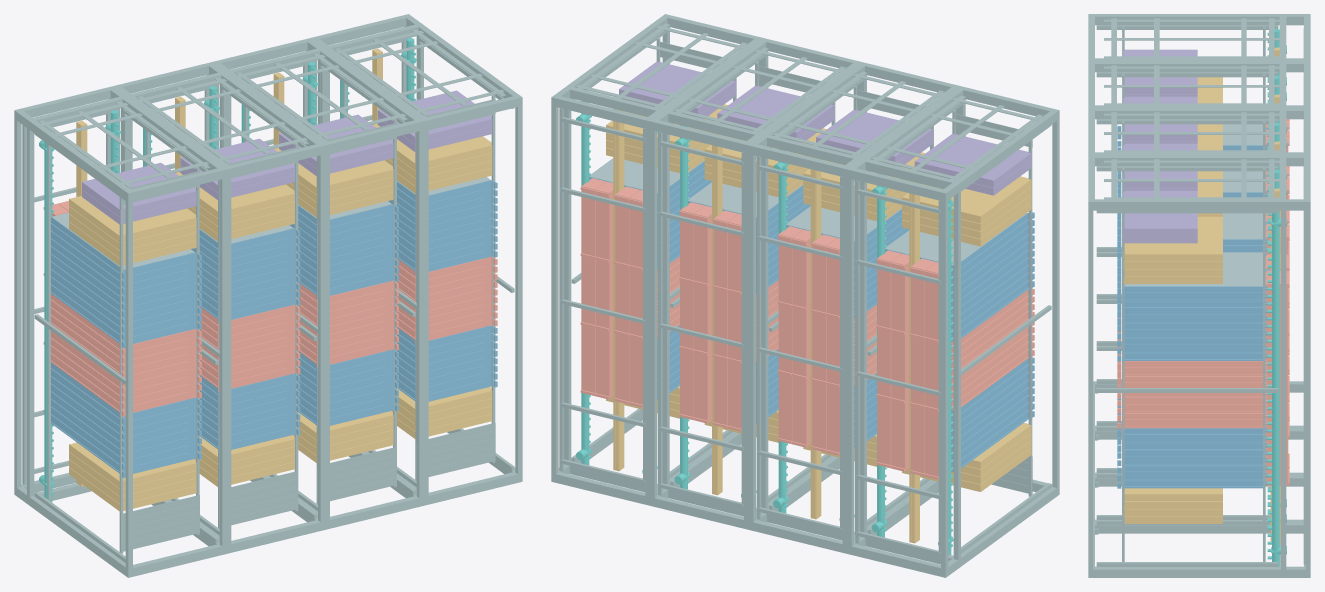
File: gb200-pod-solid.glb
3 views of the same model, side by side, from view 1: azimuth 30°, elevation 25°; view 2: azimuth 150°, elevation 25°; view 3: azimuth 270°, elevation 25° (orthographic). The views are drawn at different scales.
Parts seen in each view (by area): view 1: frame (×4), management_02 (×4), power_upper_04 (×4), power_lower_04 (×4), compute_18_compute_shell (×4), compute_16_compute_shell (×4), compute_15_compute_shell (×4), compute_17_compute_shell (×4), nvlink_switch_02_switch_shell (×4), nvlink_switch_08_switch_shell (×4), compute_04_compute_shell (×4), compute_05_compute_shell (×4) (+28 smaller); view 2: frame (×4), rear_braces (×4), nvlink_cartridge_03 (×4), nvlink_cartridge_04 (×4), nvlink_cartridge_02 (×4), nvlink_cartridge_01 (×4), management_02 (×4), dc_busbar (×4), coolant_return (×4), compute_18_compute_lid (×4), power_upper_04, coolant_supply (+6 smaller); view 3: frame (×4), management_02 (×4), power_upper_04 (×4), compute_18_compute_lid (×4), coolant_return, nvlink_cartridge_04, compute_18_compute_shell (×2), compute_17_compute_shell (×2), power_lower_04, compute_01_compute_shell, compute_03_compute_shell, compute_11_compute_shell (+31 smaller).
Part boxes in pixels (x1,y1,x2,y2): frame (×4): (14, 14, 522, 577); management_02 (×4): (82, 90, 492, 216); power_upper_04 (×4): (69, 123, 492, 242); power_lower_04 (×4): (69, 387, 492, 488); compute_18_compute_shell (×4): (51, 177, 497, 279); compute_16_compute_shell (×4): (51, 195, 497, 294); compute_15_compute_shell (×4): (51, 200, 497, 302); compute_17_compute_shell (×4): (51, 188, 497, 286); nvlink_switch_02_switch_shell (×4): (51, 310, 497, 409); nvlink_switch_08_switch_shell (×4): (51, 264, 497, 363); compute_04_compute_shell (×4): (51, 356, 497, 455); compute_05_compute_shell (×4): (51, 348, 497, 447); frame (×4): (551, 14, 1059, 577); rear_braces (×4): (559, 108, 940, 563); nvlink_cartridge_03 (×4): (594, 181, 909, 471); nvlink_cartridge_04 (×4): (580, 178, 901, 467); nvlink_cartridge_02 (×4): (614, 186, 935, 476); nvlink_cartridge_01 (×4): (628, 190, 938, 479); management_02 (×4): (619, 62, 1031, 187); dc_busbar (×4): (613, 109, 919, 543); coolant_return (×4): (576, 101, 887, 537); compute_18_compute_lid (×4): (589, 158, 1026, 265); power_upper_04: (902, 176, 1031, 223); coolant_supply: (938, 198, 953, 554); frame (×4): (1088, 14, 1310, 577); management_02 (×4): (1123, 49, 1197, 235); power_upper_04 (×4): (1123, 77, 1222, 261); compute_18_compute_lid (×4): (1124, 124, 1262, 286); coolant_return: (1267, 210, 1286, 566); nvlink_cartridge_04: (1265, 277, 1289, 485); compute_18_compute_shell (×2): (1117, 215, 1270, 295); compute_17_compute_shell (×2): (1117, 213, 1267, 303); power_lower_04: (1124, 488, 1222, 501); compute_01_compute_shell: (1117, 451, 1267, 489); compute_03_compute_shell: (1117, 436, 1267, 474); compute_11_compute_shell: (1117, 309, 1267, 347).
Bounding box in the file's own units: 2.4 × 2.24 × 1.2.
